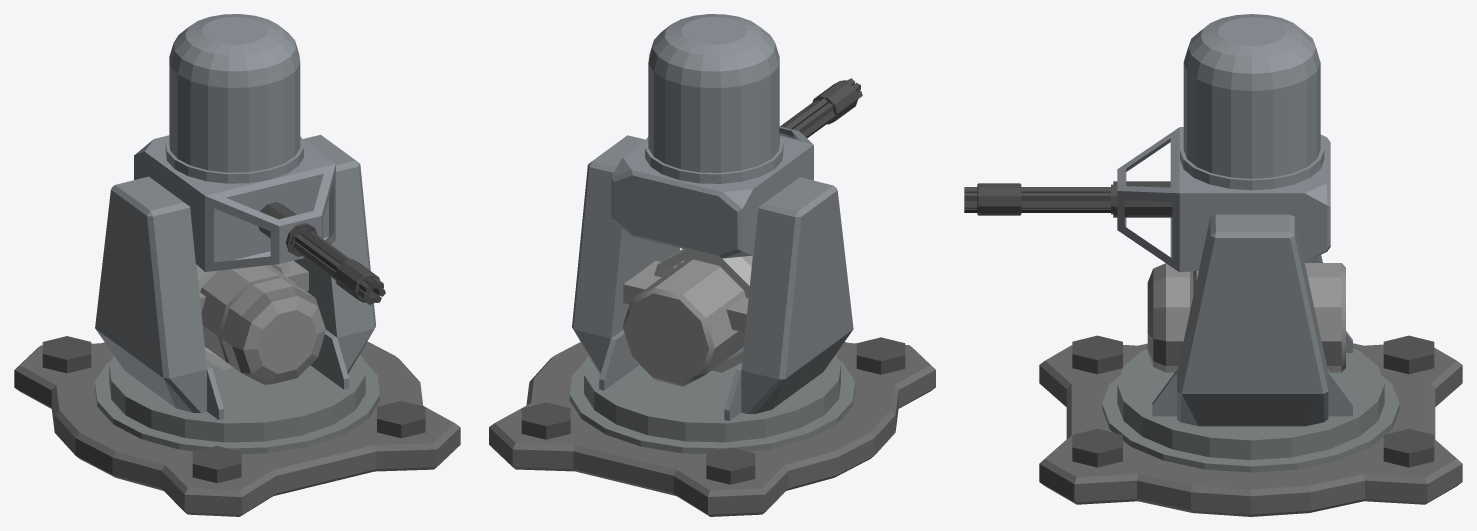
Rendered from model_polyfleet_battleship_phalanx01.fbx.
3 renders of one model, left to right at view 1: azimuth 30°, elevation 25°; view 2: azimuth 150°, elevation 25°; view 3: azimuth 270°, elevation 25°, orthographic. The views are drawn at different scales.
Parts seen in each view (by area): view 1: weapon_rotate, weapon_barrel_tilt, model_polyfleet_battleship_phalanx01, weapon_barrels; view 2: weapon_rotate, weapon_barrel_tilt, model_polyfleet_battleship_phalanx01, weapon_barrels; view 3: weapon_rotate, model_polyfleet_battleship_phalanx01, weapon_barrel_tilt, weapon_barrels.
Boxes of the visible parts, box(x1,y1,x2,y2) form: weapon_rotate: box(95, 134, 379, 453); weapon_barrel_tilt: box(134, 14, 335, 271); model_polyfleet_battleship_phalanx01: box(14, 336, 460, 516); weapon_barrels: box(258, 202, 385, 304); weapon_rotate: box(569, 135, 855, 453); weapon_barrel_tilt: box(611, 14, 813, 258); model_polyfleet_battleship_phalanx01: box(489, 337, 935, 516); weapon_barrels: box(779, 78, 862, 138); weapon_rotate: box(1102, 214, 1399, 472); model_polyfleet_battleship_phalanx01: box(1039, 335, 1462, 516); weapon_barrel_tilt: box(1117, 14, 1330, 272); weapon_barrels: box(964, 181, 1172, 217).
Bounding box in the file's own units: 371 × 427 × 477.
